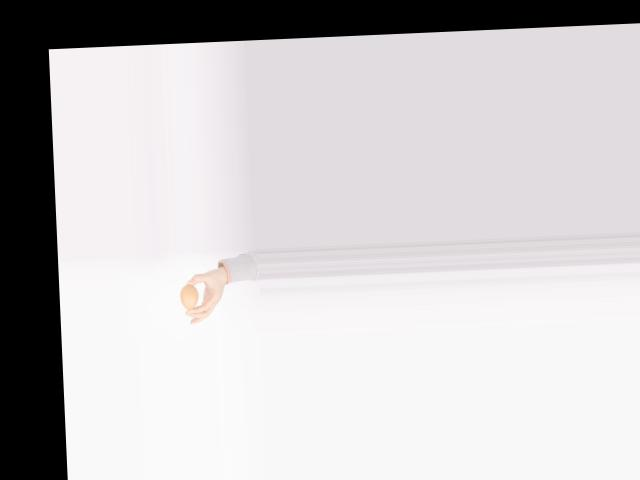egg: (179, 284, 198, 310)
